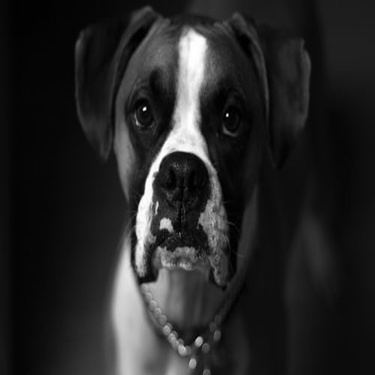dog: (63, 2, 353, 369)
